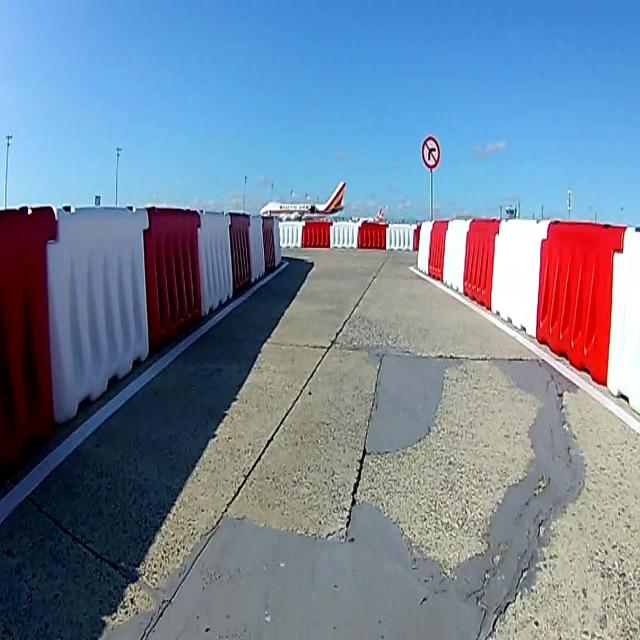sagadonulmez: (422, 138, 440, 170)
